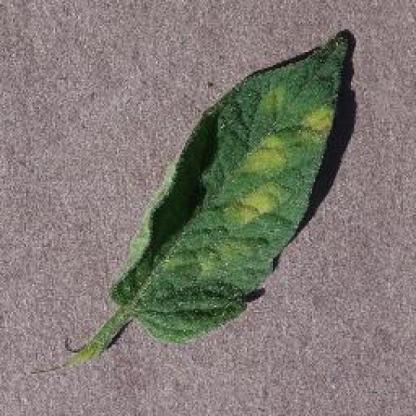Tomato_Leaf_Mold: (113, 38, 349, 334)
